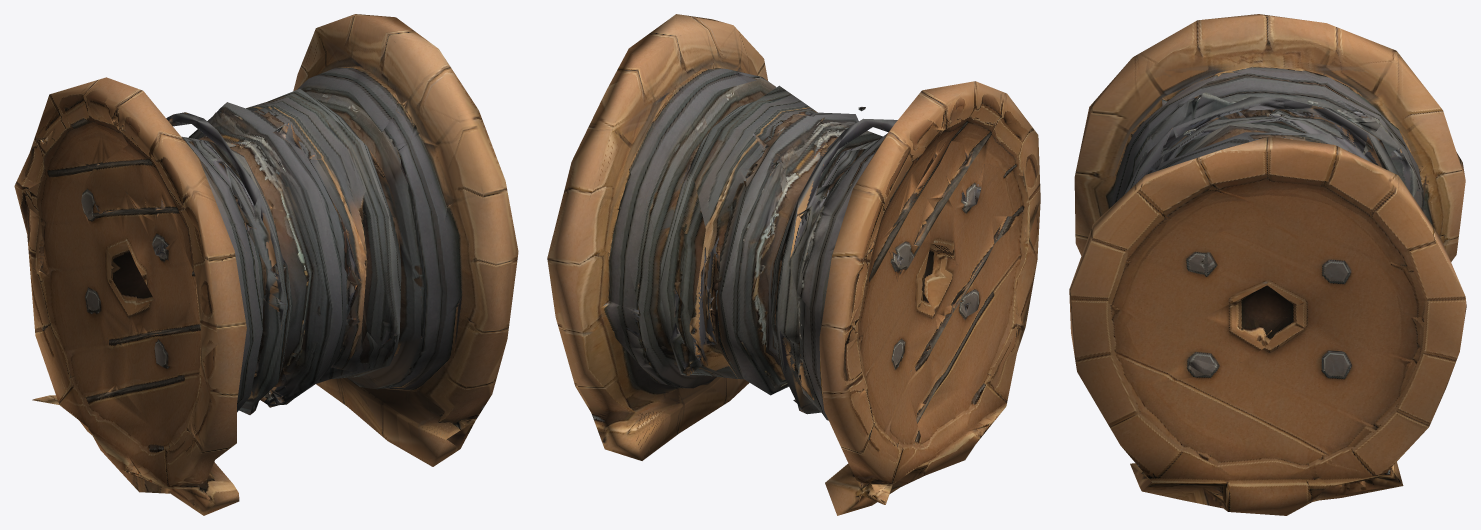
Rendered from Prop_CableSpool.fbx.
3 views of the same model, side by side, from view 1: azimuth 30°, elevation 25°; view 2: azimuth 150°, elevation 25°; view 3: azimuth 270°, elevation 25° (orthographic). The views are drawn at different scales.
Visible parts, largest first — view 1: texture_mapping; view 2: texture_mapping; view 3: texture_mapping.
Boxes of the visible parts, x1=… form: texture_mapping: x1=14, y1=14, x2=518, y2=515; texture_mapping: x1=547, y1=14, x2=1040, y2=515; texture_mapping: x1=1069, y1=14, x2=1466, y2=515.
Bounding box in the file's own units: 86.44 × 97.86 × 95.18.
1 material, 1 textured.
